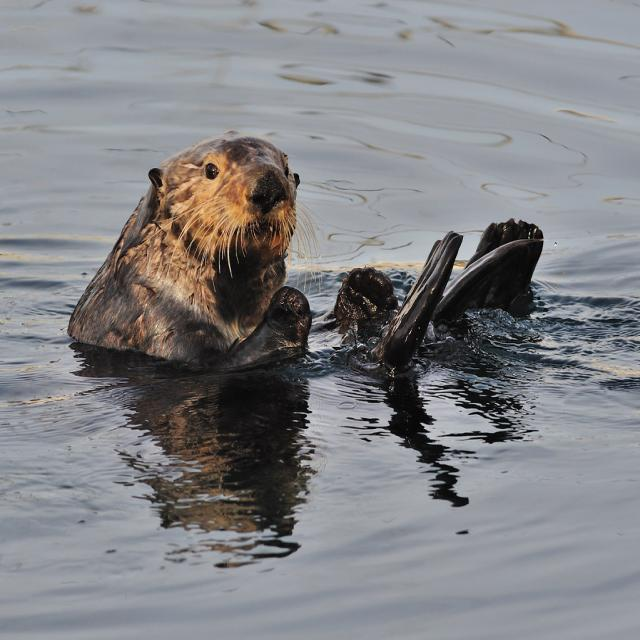otter: (71, 133, 543, 357)
